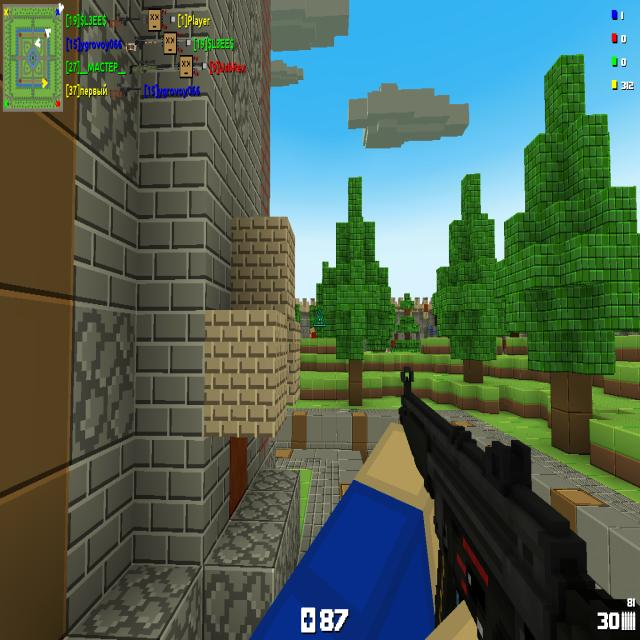enemy: (309, 326, 317, 338)
